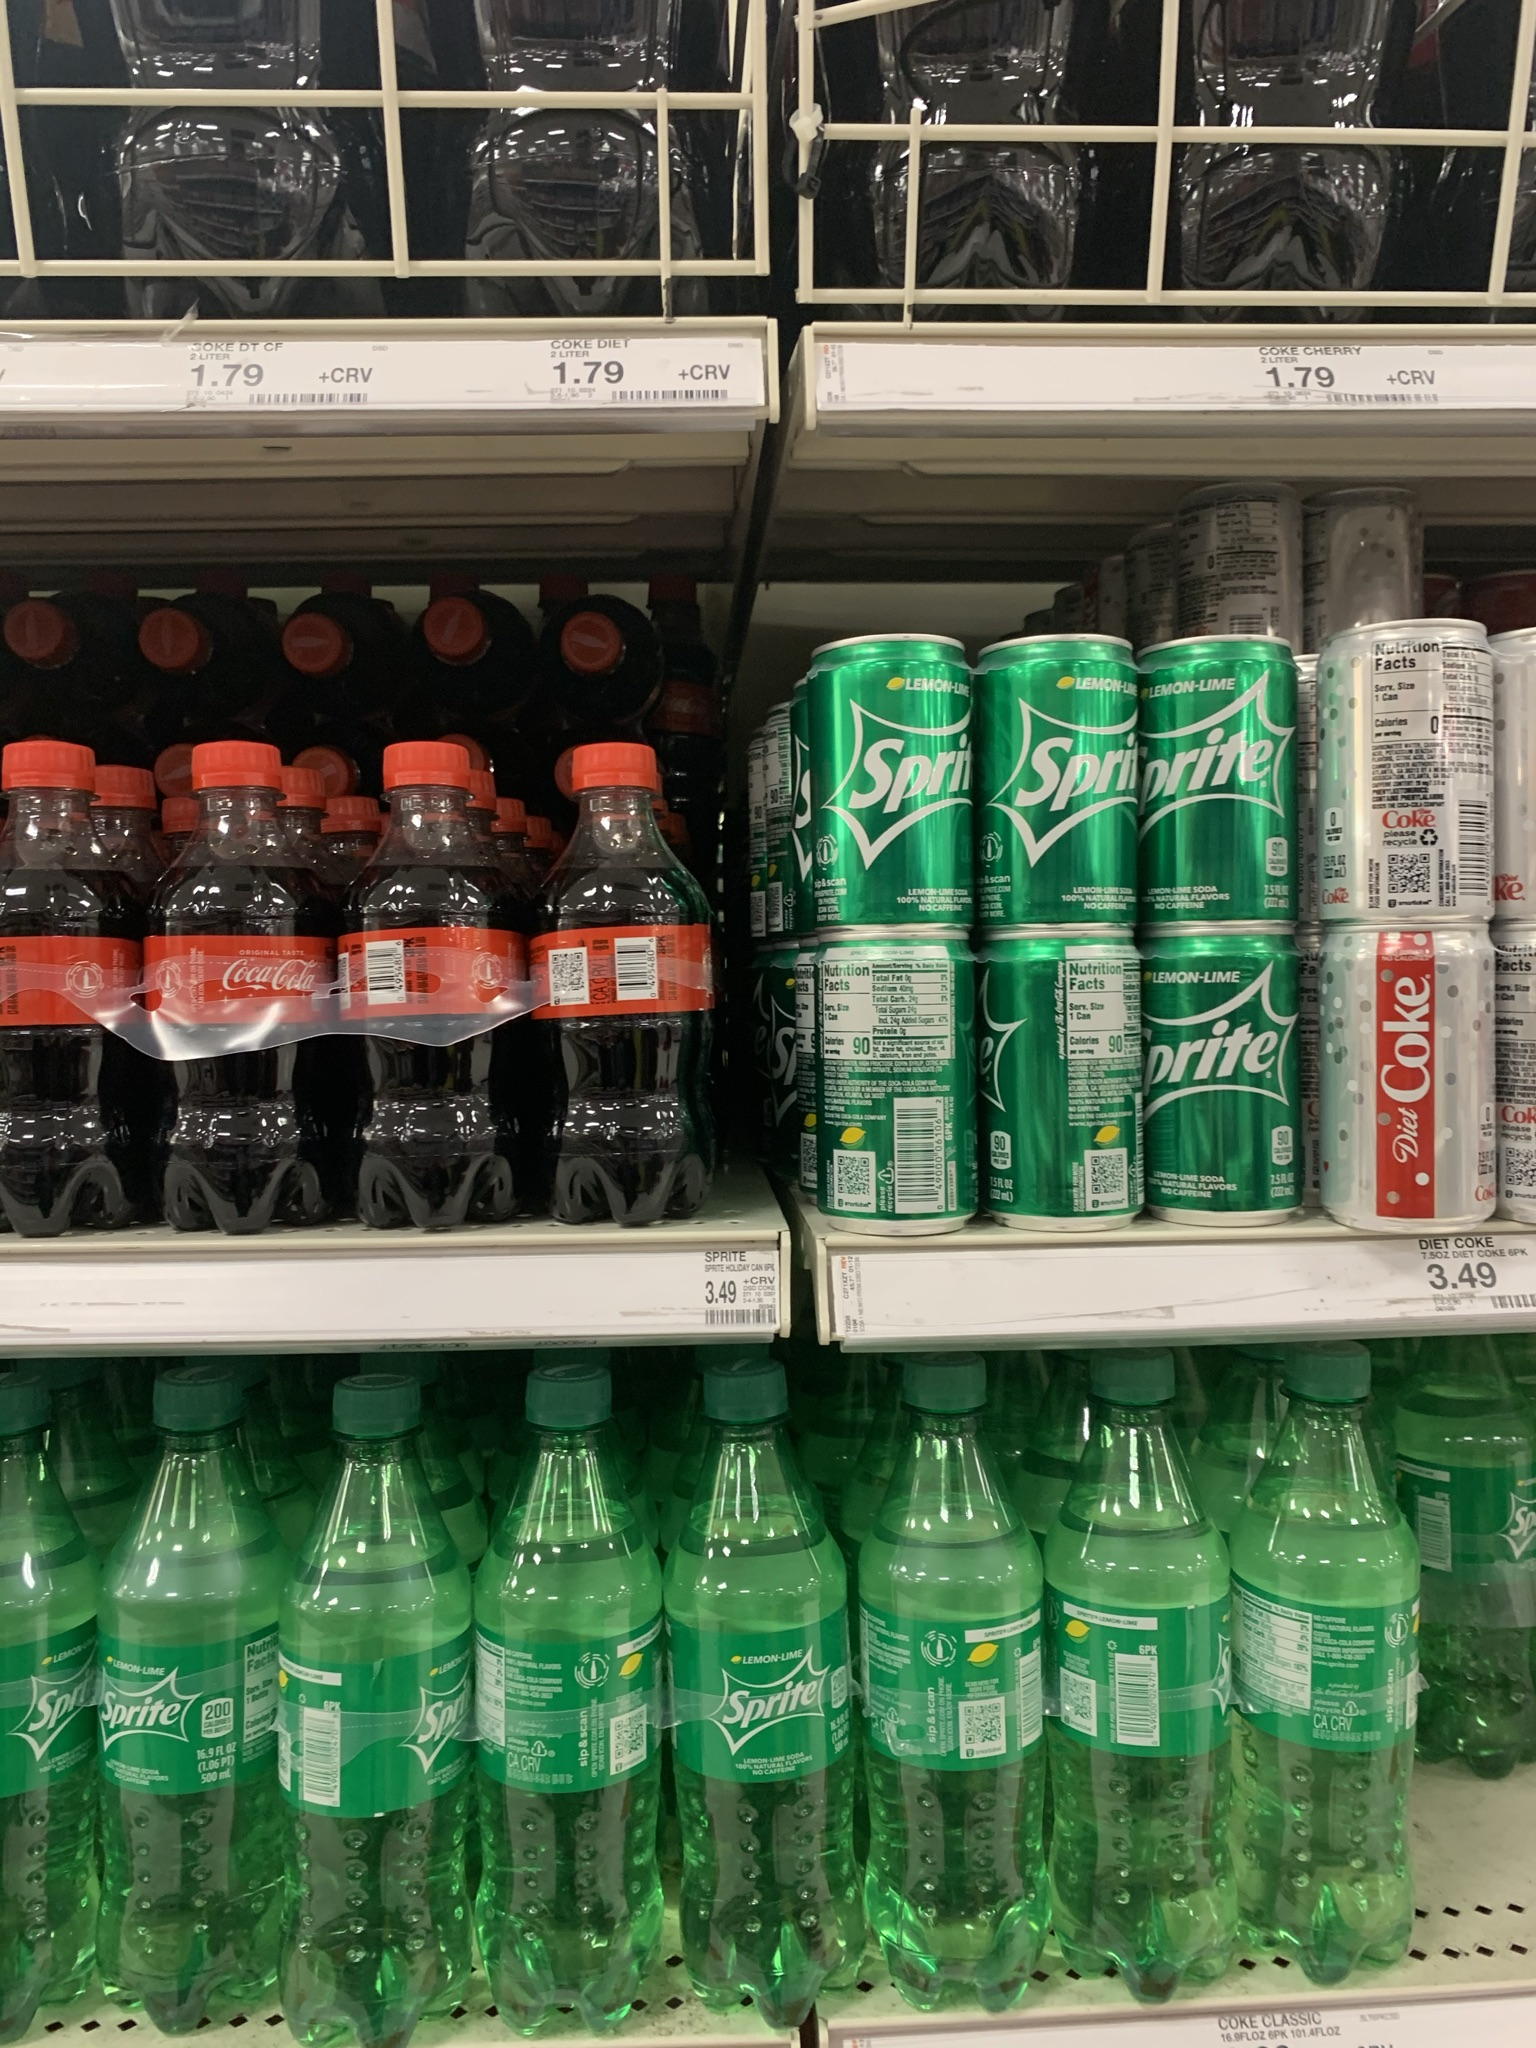can: (1331, 939, 1494, 1230), (1331, 642, 1486, 918), (1154, 947, 1300, 1226), (986, 951, 1134, 1227), (828, 953, 965, 1235), (987, 653, 1131, 922), (1155, 647, 1288, 918), (824, 655, 958, 919)
